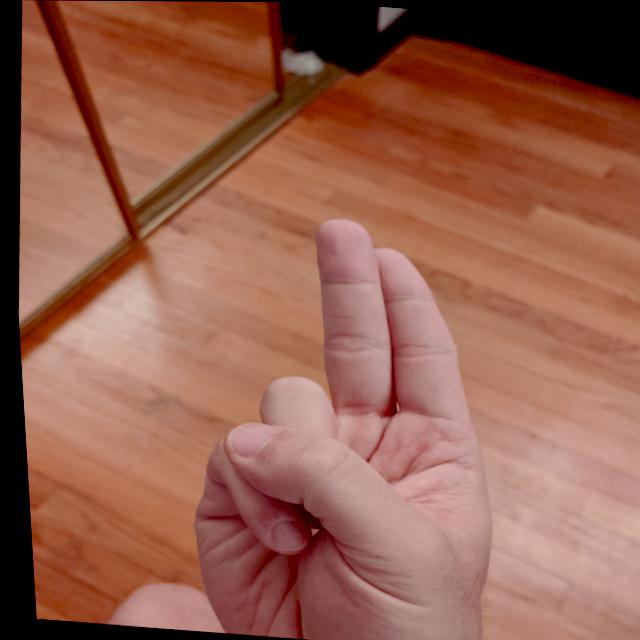U: (154, 196, 520, 639)
